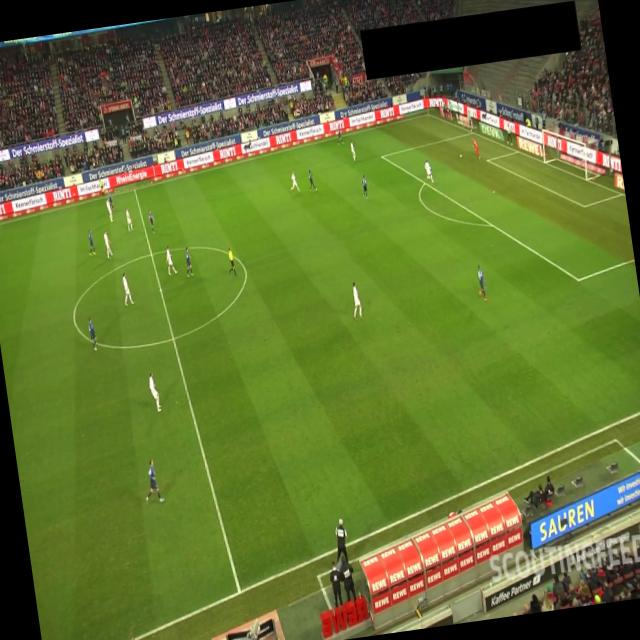ball: (459, 153, 463, 159)
goalkeeper: (472, 136, 482, 160)
player: (140, 457, 166, 506), (348, 282, 364, 321), (148, 371, 162, 413), (120, 271, 134, 306), (476, 264, 488, 302), (164, 244, 178, 275), (86, 316, 98, 352), (182, 245, 195, 278), (103, 229, 114, 259), (86, 228, 96, 257), (306, 168, 318, 192), (288, 170, 300, 194), (360, 173, 370, 199), (424, 158, 434, 184), (105, 198, 114, 224), (125, 206, 134, 232), (148, 208, 156, 234), (335, 125, 344, 146), (349, 139, 357, 161), (108, 190, 114, 212)
referee: (225, 246, 238, 277), (99, 177, 106, 198)
